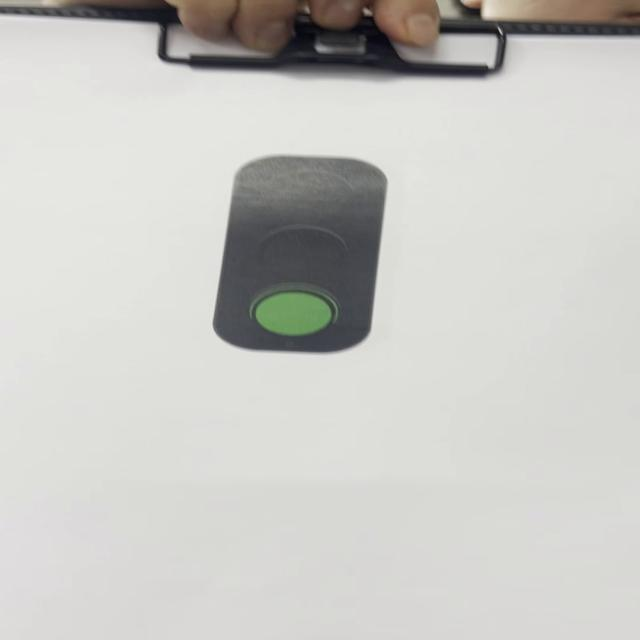green: (209, 157, 392, 355)
